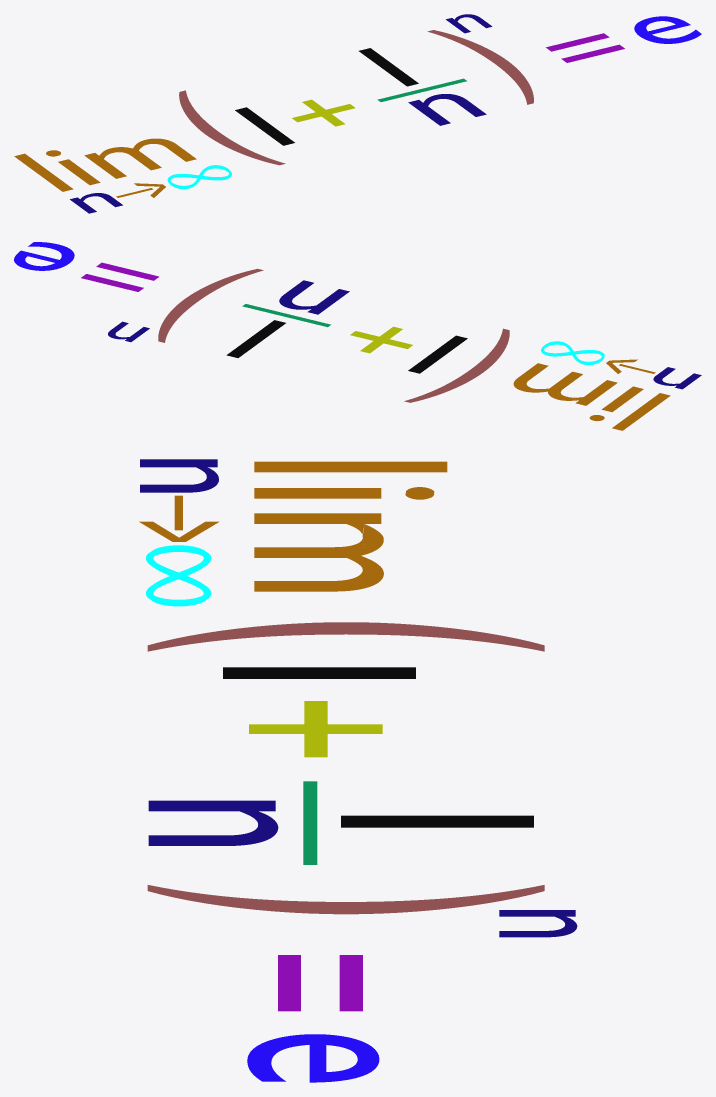
3 renders of one model, top to bottom at view 1: azimuth 30°, elevation 25°; view 2: azimuth 150°, elevation 25°; view 3: azimuth 270°, elevation 25°, orthographic. The views are drawn at different scales.
Visible parts, largest first — view 1: LR 1; view 2: LR 1; view 3: LR 1.
Boxes of the visible parts, x1=… form: LR 1: x1=14, y1=14, x2=701, y2=213; LR 1: x1=14, y1=242, x2=701, y2=430; LR 1: x1=139, y1=459, x2=577, y2=1082.
Size of the model in its own units: 5.21 by 0.0259 by 1.55.
